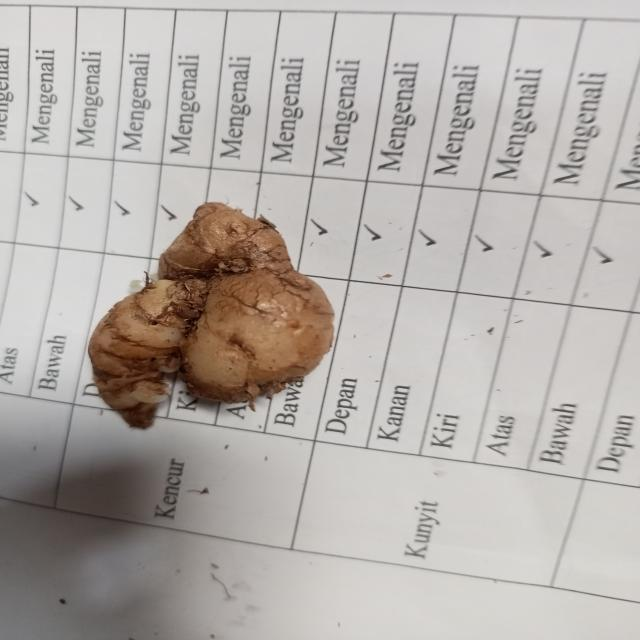ginger: (102, 204, 324, 408)
